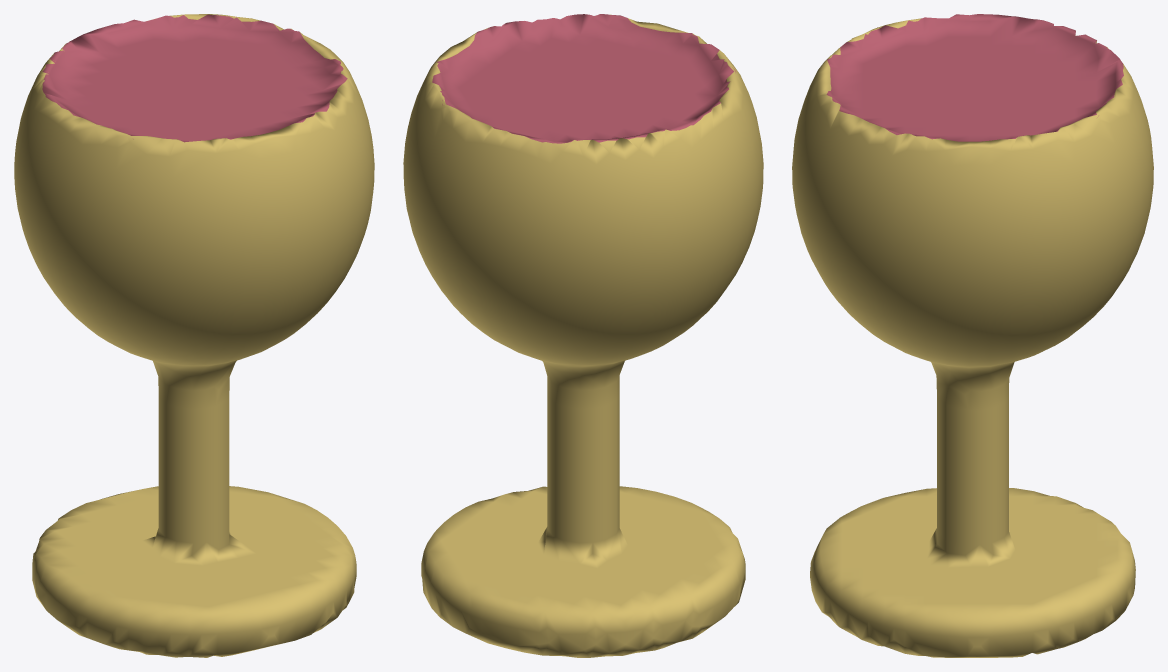
The model's file is goblet.glb.
3 renders of one model, left to right at view 1: azimuth 30°, elevation 25°; view 2: azimuth 150°, elevation 25°; view 3: azimuth 270°, elevation 25°, orthographic.
Visible parts, largest first — view 1: goblet; view 2: goblet; view 3: goblet.
Part boxes in pixels (x1,y1,x2,y2): goblet: [14, 14, 374, 657]; goblet: [403, 14, 763, 657]; goblet: [792, 14, 1153, 657].
Size of the model in its own units: 19.99 by 31.76 by 19.99.
